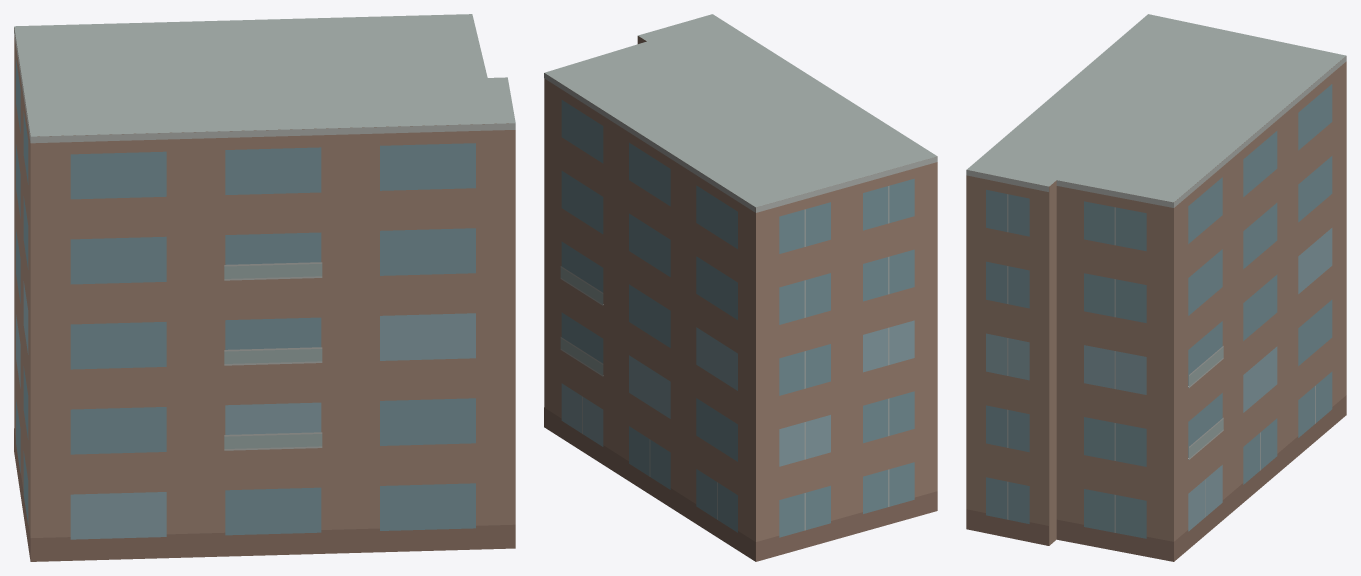
The model's file is survey-upis-33017589.glb.
The picture shows the model from 3 angles, left to right: view 1: azimuth 30°, elevation 25°; view 2: azimuth 150°, elevation 25°; view 3: azimuth 270°, elevation 25°; orthographic projection. The views are drawn at different scales.
Visible parts, largest first — view 1: survey-upis-33017589.tmp; view 2: survey-upis-33017589.tmp; view 3: survey-upis-33017589.tmp.
Boxes of the visible parts, x1,y1,x2,y2 form: survey-upis-33017589.tmp: (14, 14, 515, 561); survey-upis-33017589.tmp: (544, 14, 937, 561); survey-upis-33017589.tmp: (966, 14, 1346, 561).
Size of the model in its own units: 17.55 by 15.6 by 14.96.
